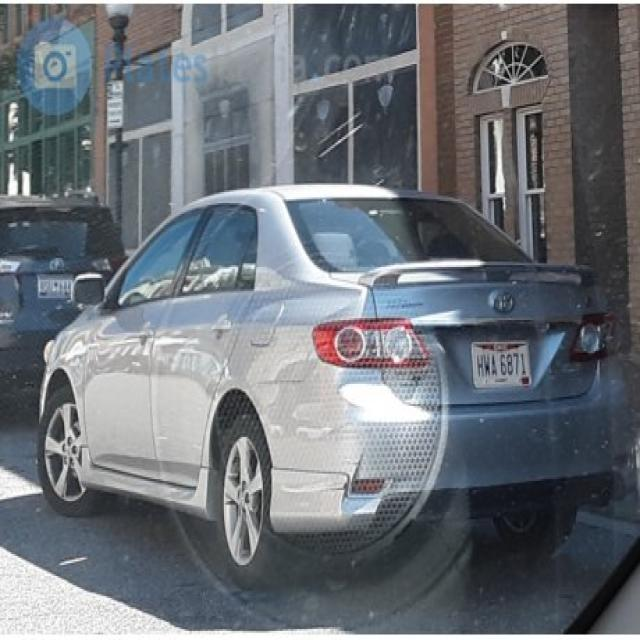license: (466, 329, 539, 405)
